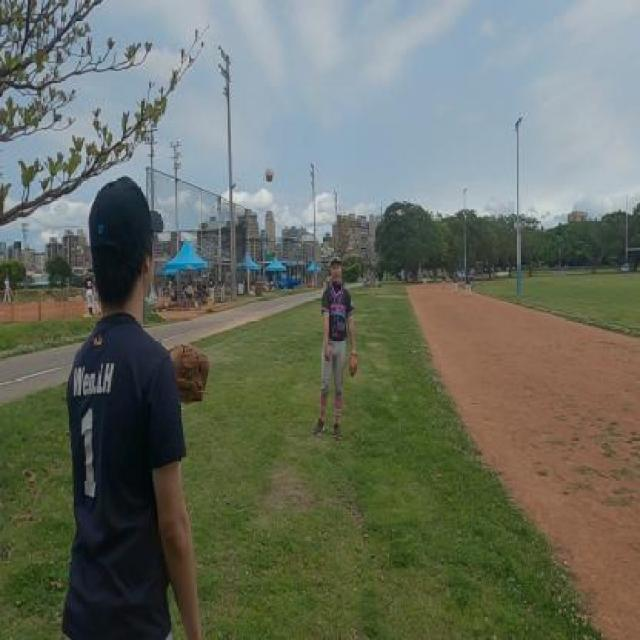baseball: (264, 167, 274, 182)
